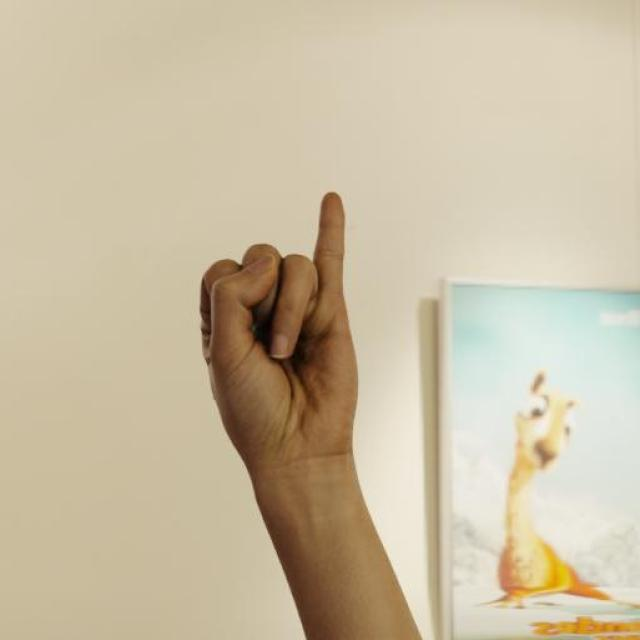I: (196, 186, 358, 472)
